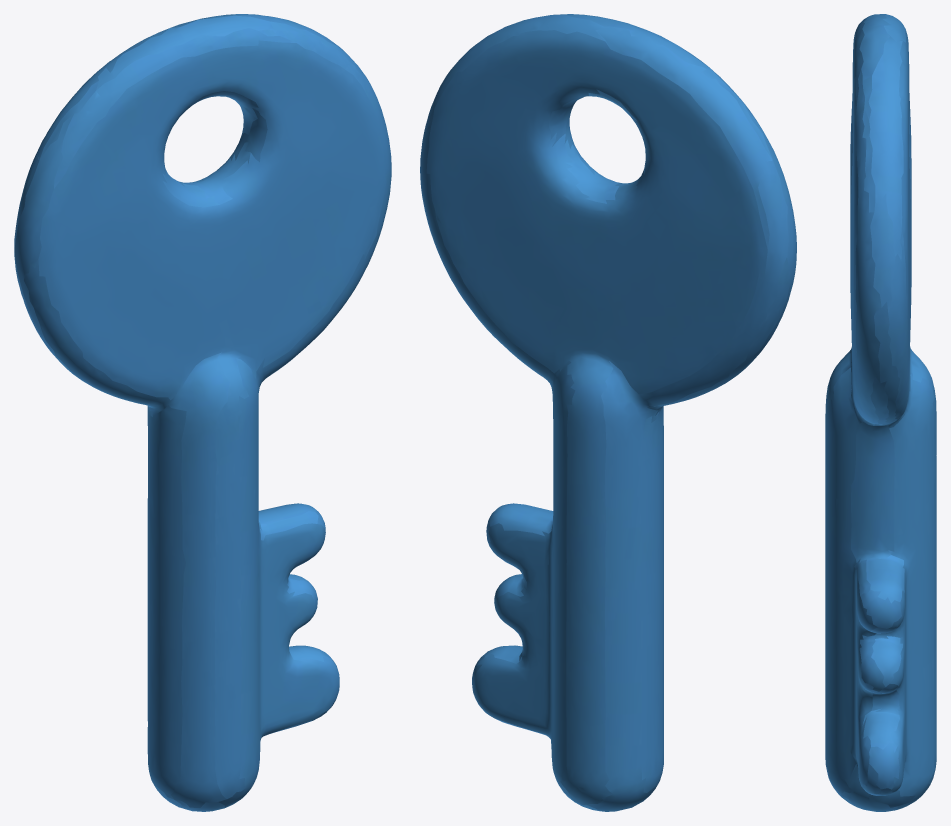
The model's file is i-lockkey.glb.
3 renders of one model, left to right at view 1: azimuth 30°, elevation 25°; view 2: azimuth 150°, elevation 25°; view 3: azimuth 270°, elevation 25°, orthographic.
Parts seen in each view (by area): view 1: geometry_0; view 2: geometry_0; view 3: geometry_0.
Boxes of the visible parts, bbox=[...] form: geometry_0: bbox=[14, 14, 391, 811]; geometry_0: bbox=[420, 14, 796, 811]; geometry_0: bbox=[825, 14, 936, 811].
Size of the model in its own units: 0.12 by 0.2429 by 0.0319.
1 material, 1 textured.
